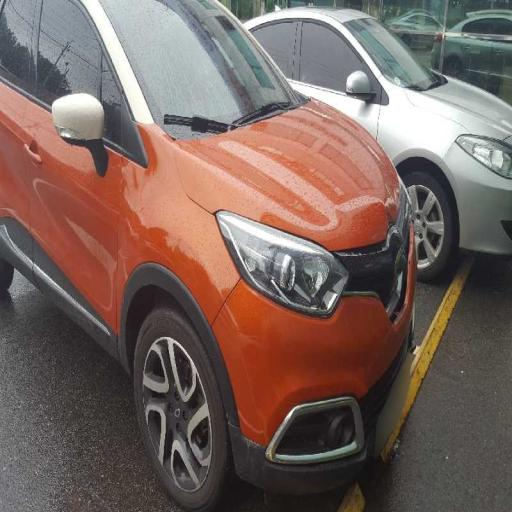scratch: (40, 117, 274, 363)
